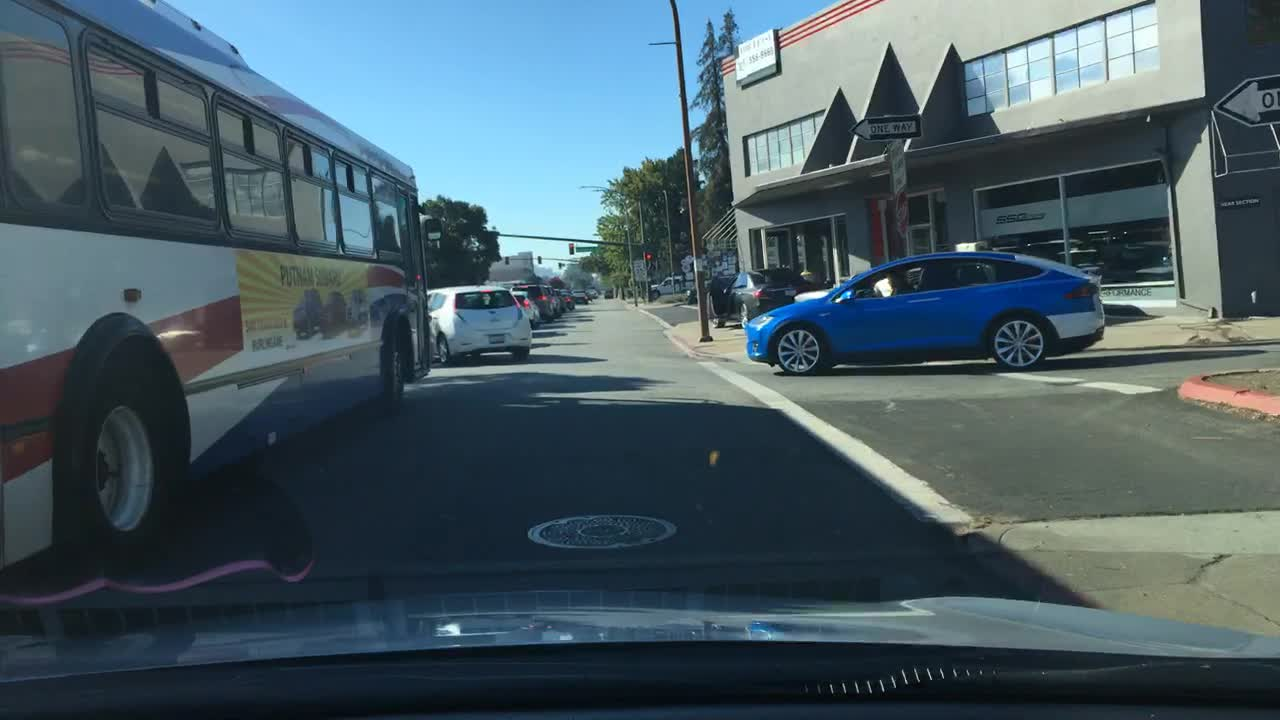bus: (0, 1, 437, 580)
car: (747, 249, 1107, 374), (425, 283, 533, 363), (703, 261, 804, 326), (508, 281, 543, 330), (518, 283, 550, 323), (648, 275, 689, 297), (545, 283, 564, 321), (554, 287, 571, 317), (560, 287, 577, 310), (569, 287, 588, 304)
traffic light: (644, 243, 653, 264)
traffic sign: (1209, 75, 1278, 126), (842, 113, 923, 137), (573, 246, 604, 254)
